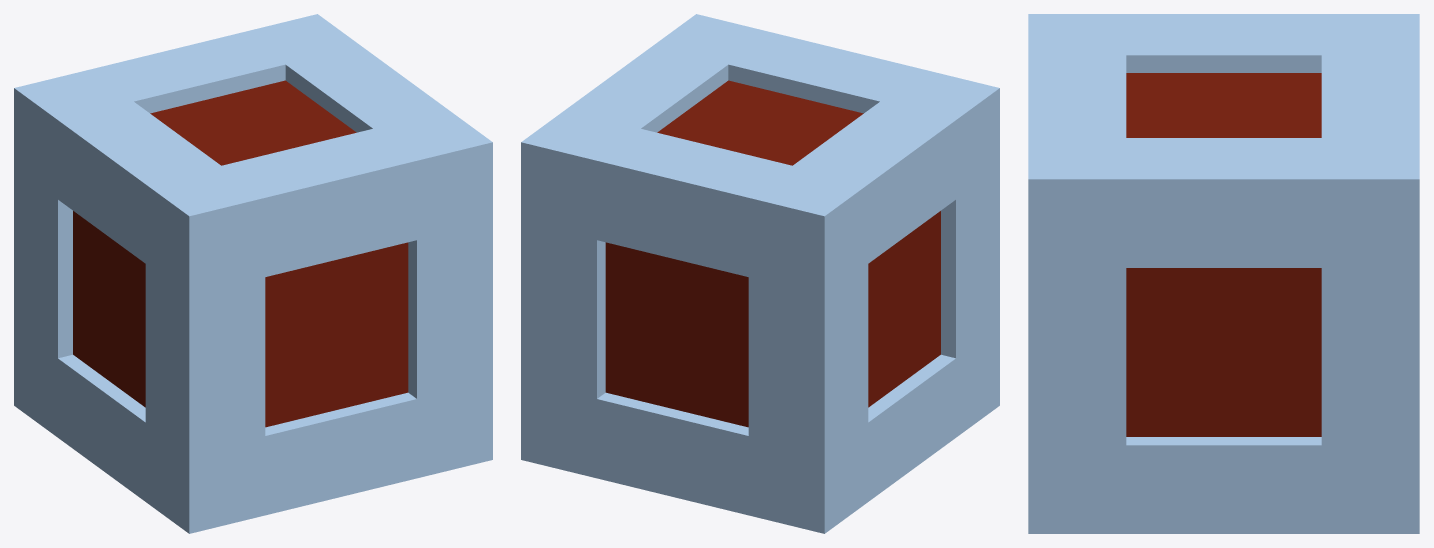
The model's file is PickupFlamethrower.fbx.
3 renders of one model, left to right at view 1: azimuth 30°, elevation 25°; view 2: azimuth 150°, elevation 25°; view 3: azimuth 270°, elevation 25°, orthographic. The views are drawn at different scales.
Parts seen in each view (by area): view 1: Cube; view 2: Cube; view 3: Cube.
Boxes of the visible parts, bbox=[...] form: Cube: bbox=[14, 14, 492, 533]; Cube: bbox=[521, 14, 999, 533]; Cube: bbox=[1028, 14, 1419, 533].
Bounding box in the file's own units: 2 × 2 × 2.
